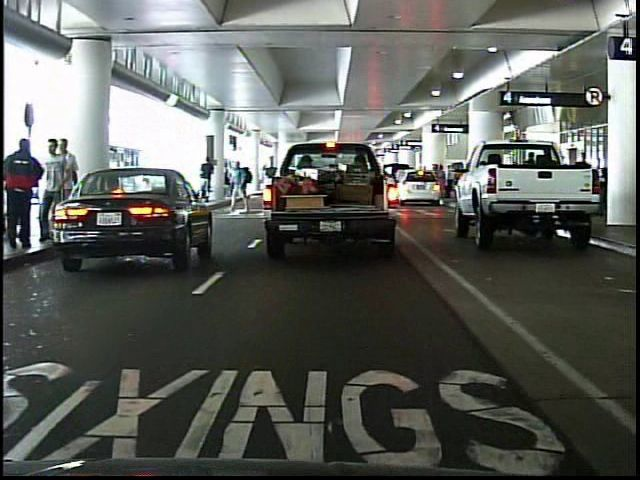person: (3, 135, 45, 255), (59, 133, 83, 239), (41, 136, 65, 239), (228, 155, 251, 212)
